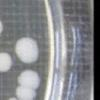white: (14, 37, 39, 64), (17, 69, 41, 91), (14, 86, 37, 100), (0, 51, 13, 75), (0, 18, 4, 37)
